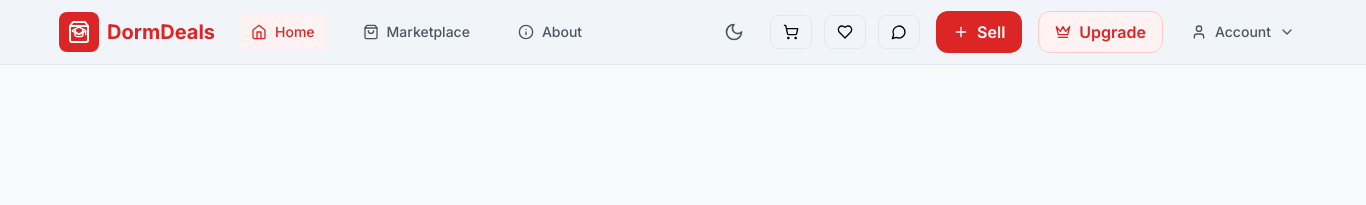
Test: Navbar › User Menu › opens user menu when account button is clicked
Step 1. Click the button "Account" → x=1243, y=32, box [1179,14,1307,50]
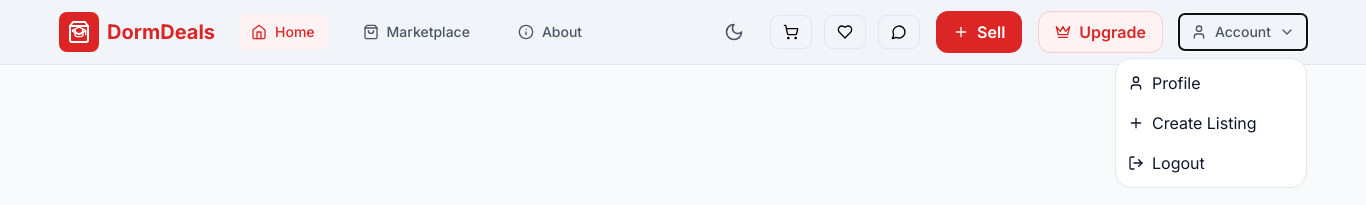
Now the link "Profile" is shown, box [1128,73,1201,93]
